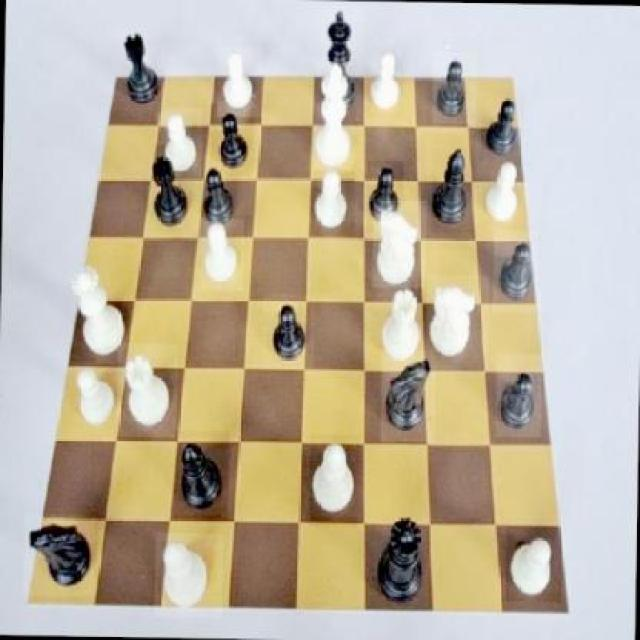bishop: (174, 431, 229, 521), (430, 134, 474, 234)
black-bishop: (320, 6, 365, 122)
black-king: (24, 514, 96, 597), (380, 350, 436, 442)
black-knight: (262, 294, 314, 371), (496, 354, 542, 438), (494, 229, 538, 313), (480, 88, 526, 162), (432, 51, 477, 124), (211, 103, 255, 176), (198, 160, 238, 232), (366, 158, 403, 232)
black-pawn: (370, 496, 428, 612)
black-queen: (112, 24, 166, 111), (143, 144, 194, 232)
black-rook: (154, 532, 224, 617), (309, 434, 360, 527)
white-bishop: (312, 58, 355, 171)
white-king: (424, 274, 488, 371), (372, 200, 428, 289)
white-knight: (506, 528, 562, 603), (74, 360, 121, 434), (483, 150, 526, 228), (200, 218, 245, 292), (217, 48, 263, 118), (156, 108, 202, 178), (312, 168, 356, 237), (366, 45, 406, 117)
white-pawn: (60, 256, 134, 362)
white-queen: (115, 343, 178, 439), (377, 283, 430, 368)
